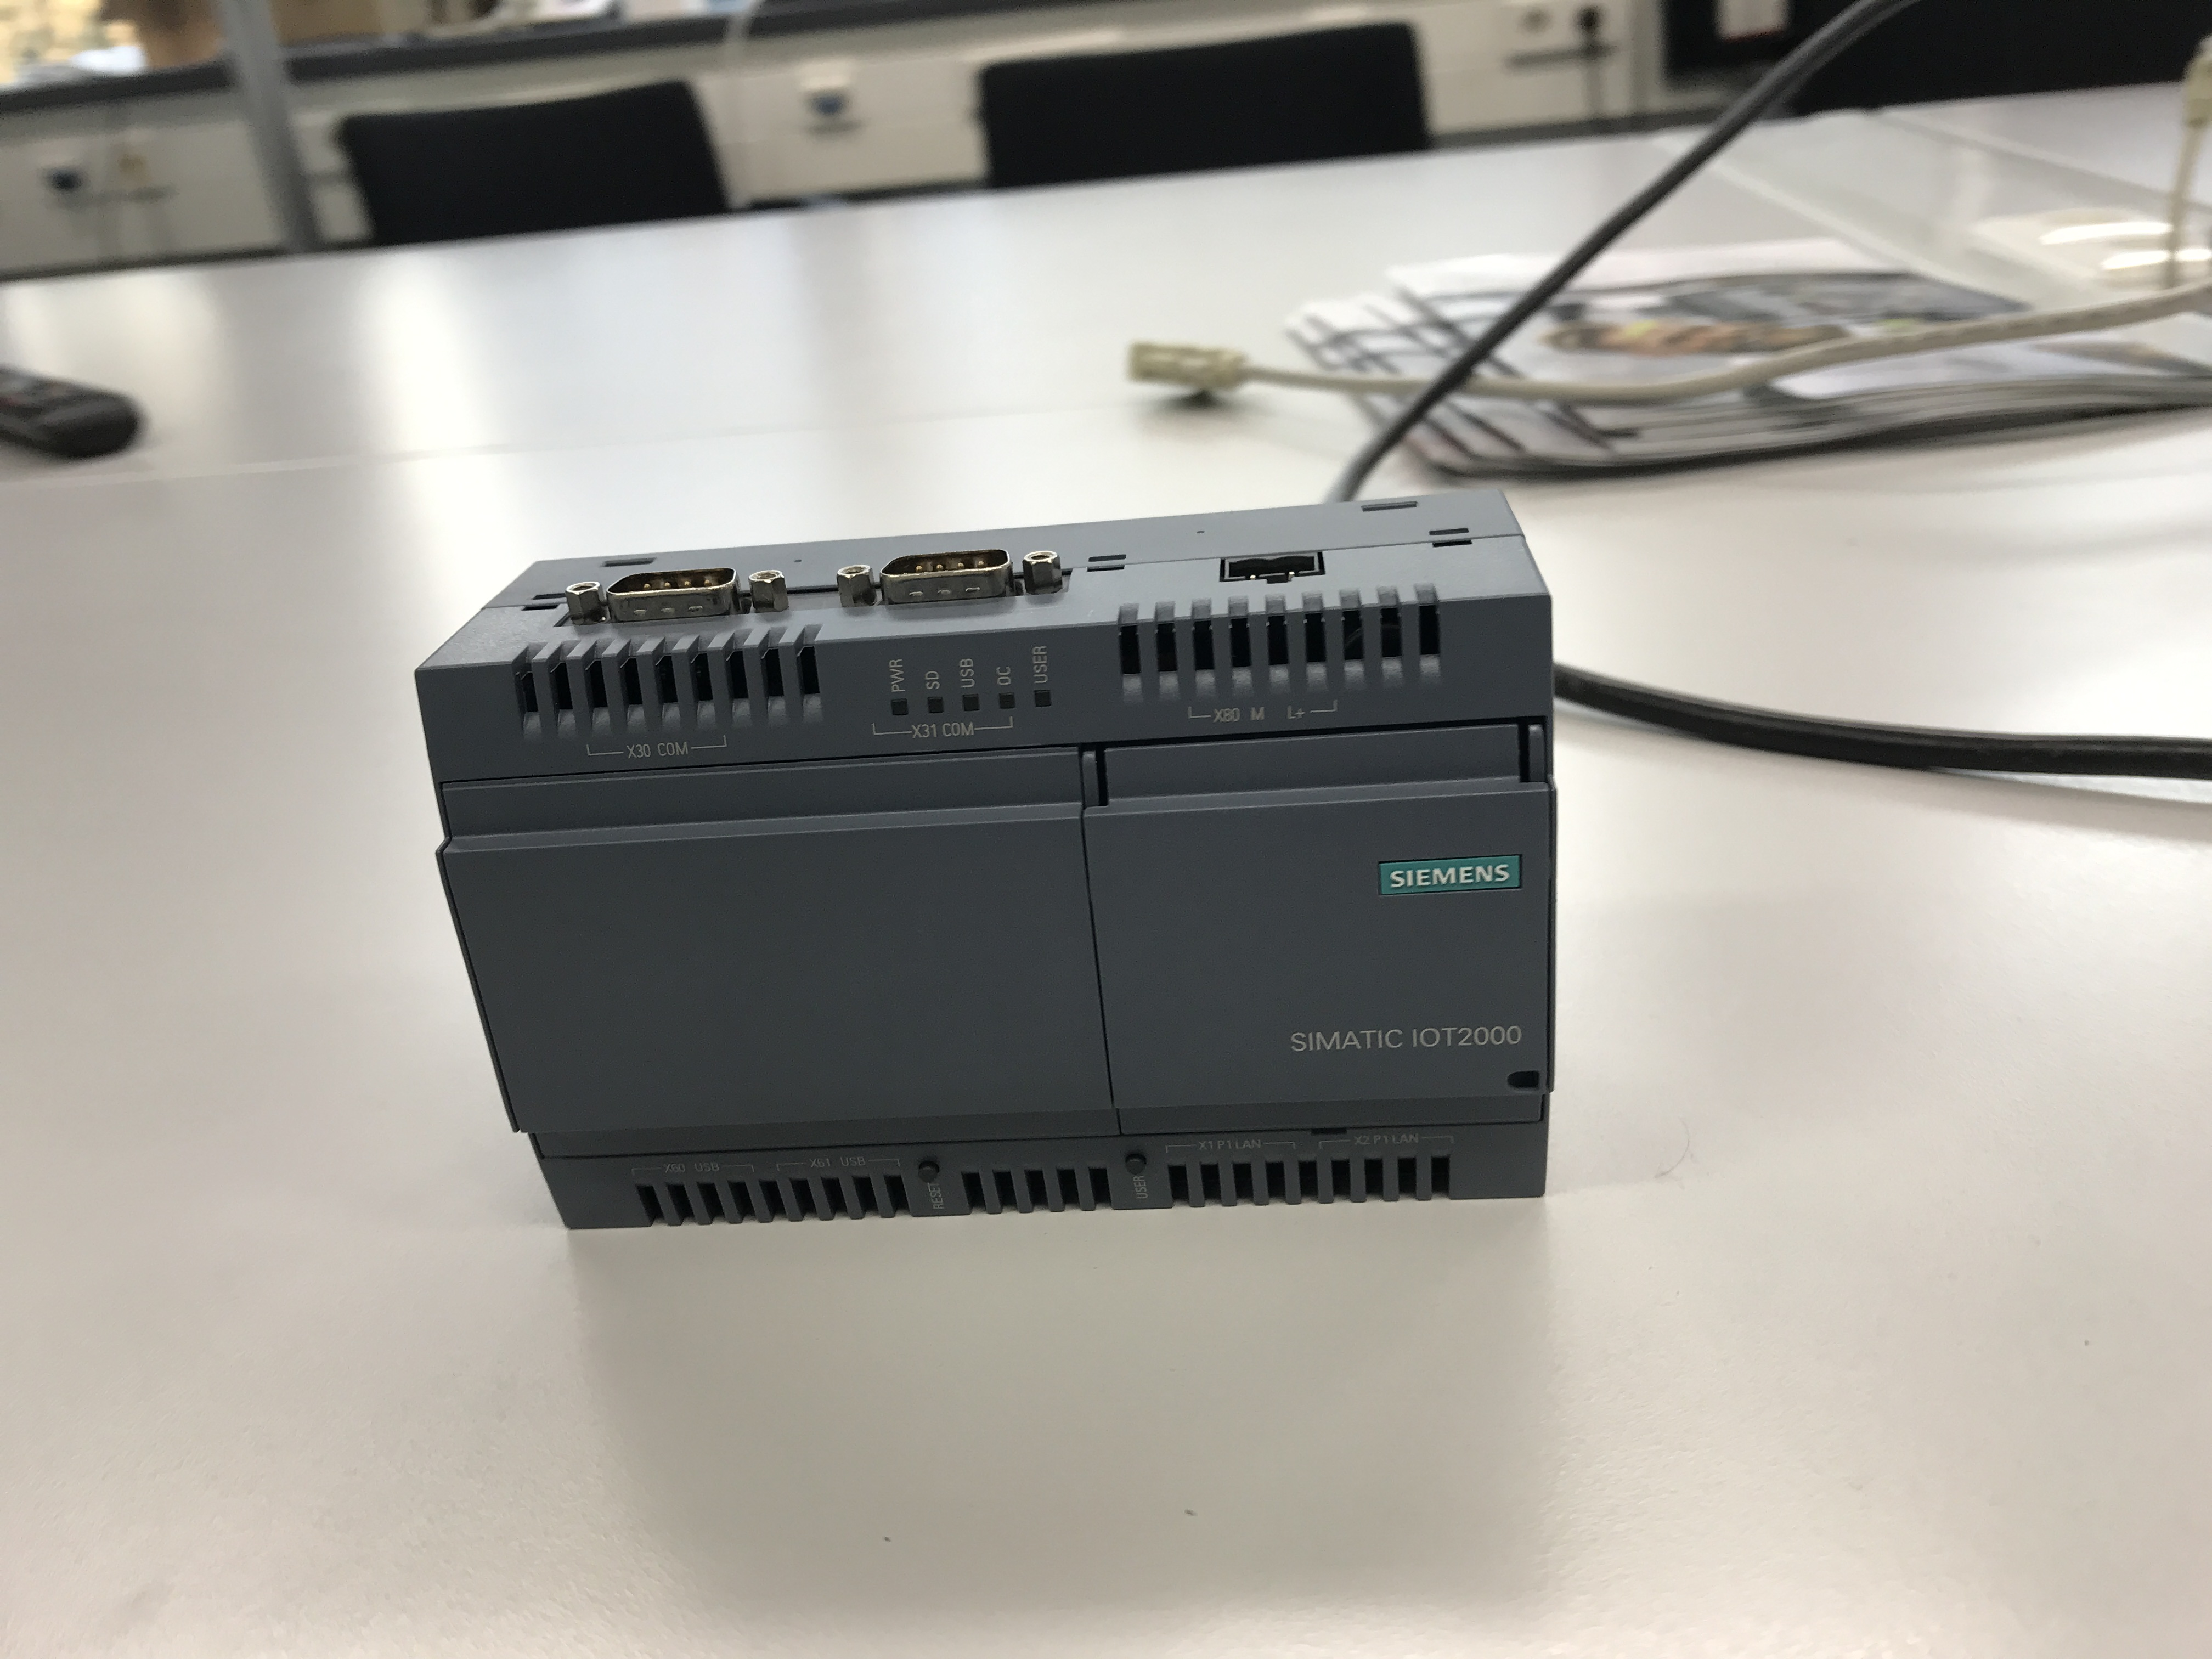device: (411, 486, 1559, 1230)
